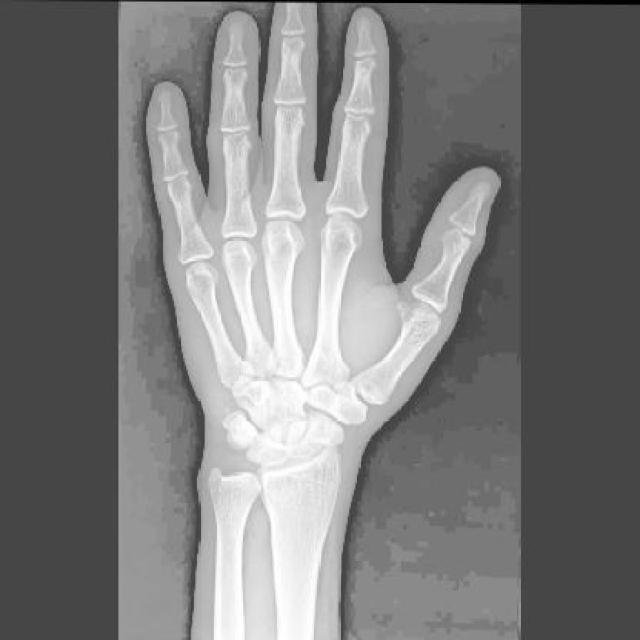bone: (272, 383, 306, 433)
